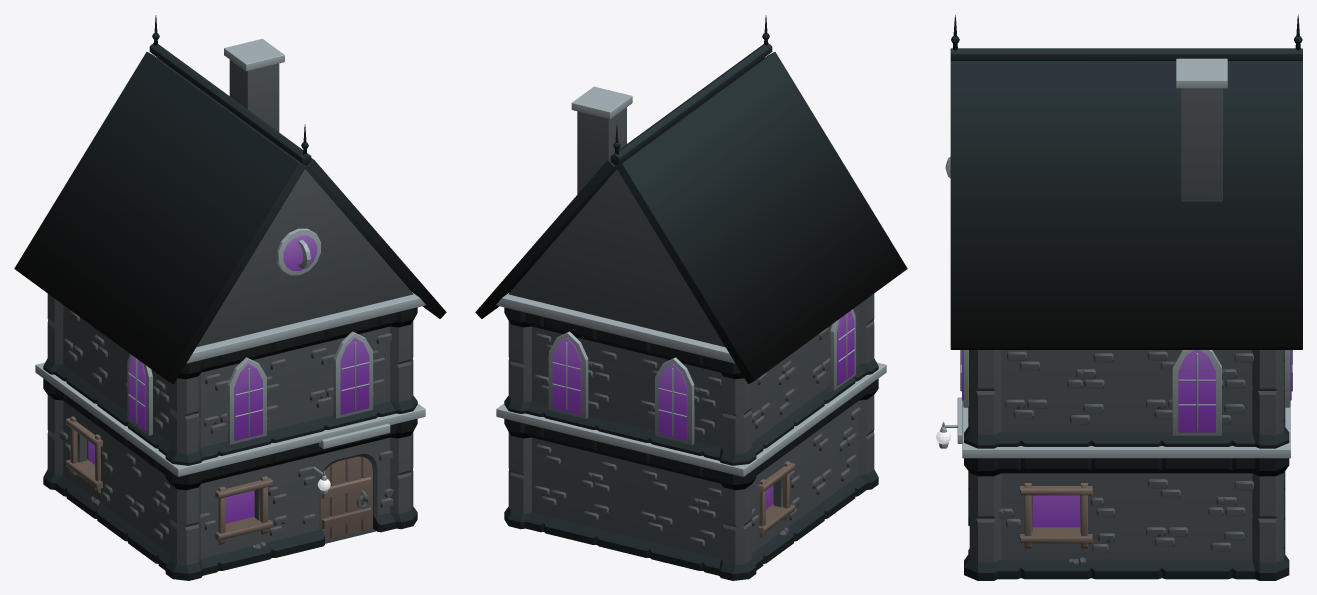
File: eclipse_house.glb
The picture shows the model from 3 angles, left to right: view 1: azimuth 30°, elevation 25°; view 2: azimuth 150°, elevation 25°; view 3: azimuth 270°, elevation 25°; orthographic projection. The views are drawn at different scales.
Parts seen in each view (by area): view 1: eclipse_house; view 2: eclipse_house; view 3: eclipse_house.
Boxes of the visible parts, x1,y1,x2,y2 form: eclipse_house: (14, 15, 446, 580); eclipse_house: (475, 15, 907, 580); eclipse_house: (936, 14, 1302, 580).
Size of the model in its own units: 7.9 by 11.85 by 7.81.
4 materials, 4 textured.
